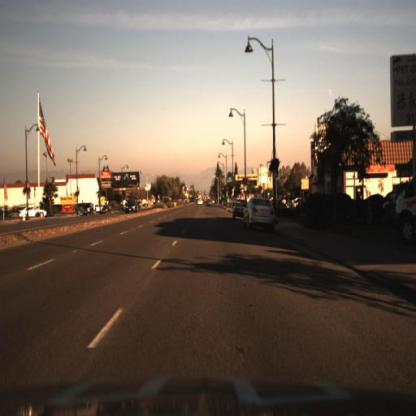car: (243, 195, 277, 235), (16, 203, 50, 221), (232, 198, 252, 225), (79, 199, 100, 220), (21, 206, 51, 218), (125, 199, 140, 217), (83, 201, 96, 219)
